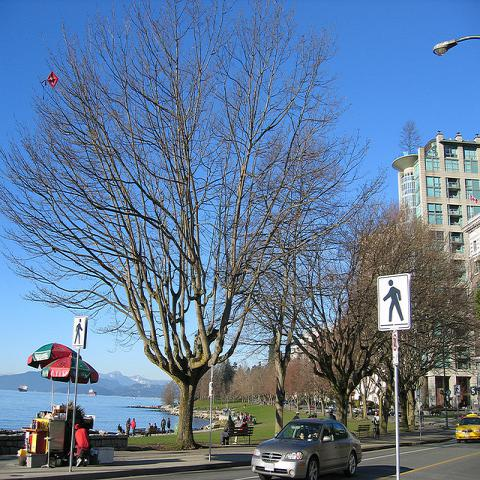car: (251, 419, 363, 479), (455, 413, 479, 444)
